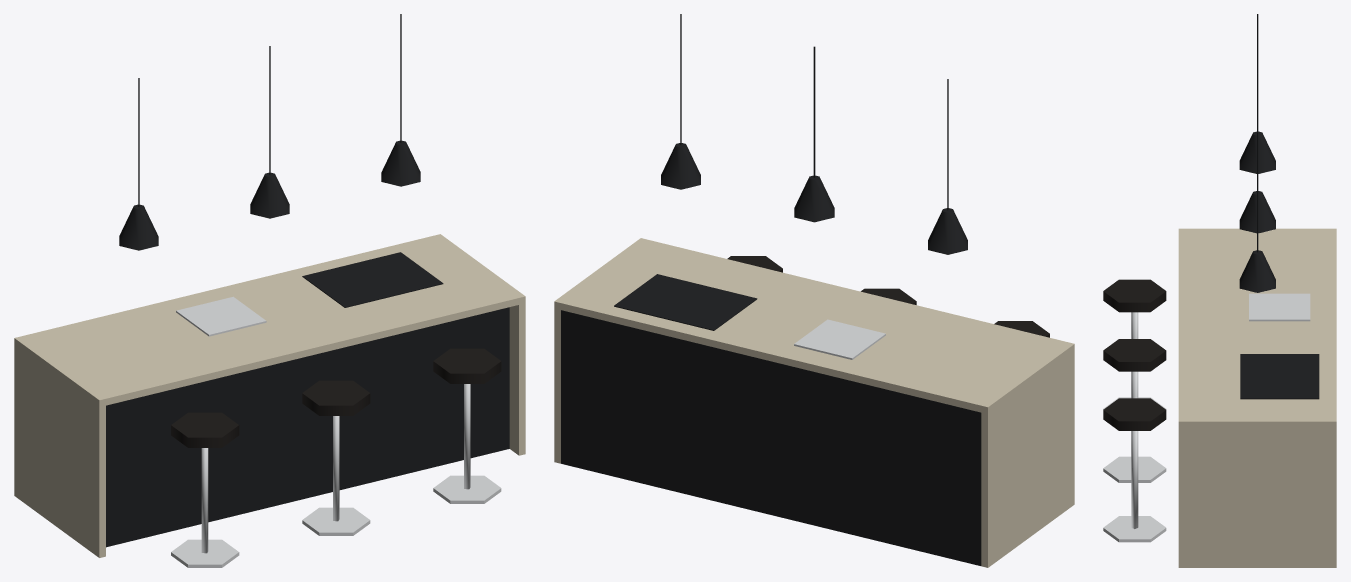
File: kitchen_island.glb
3 views of the same model, side by side, from view 1: azimuth 30°, elevation 25°; view 2: azimuth 150°, elevation 25°; view 3: azimuth 270°, elevation 25° (orthographic). The views are drawn at different scales.
Visible parts, largest first — view 1: kitchen_island; view 2: kitchen_island; view 3: kitchen_island.
Part boxes in pixels (<box>): kitchen_island: <box>14,14,525,567</box>; kitchen_island: <box>554,14,1074,567</box>; kitchen_island: <box>1103,14,1336,567</box>.
Bounding box in the file's own units: 2.6 × 2.5 × 1.33.
1 material, 1 textured.
